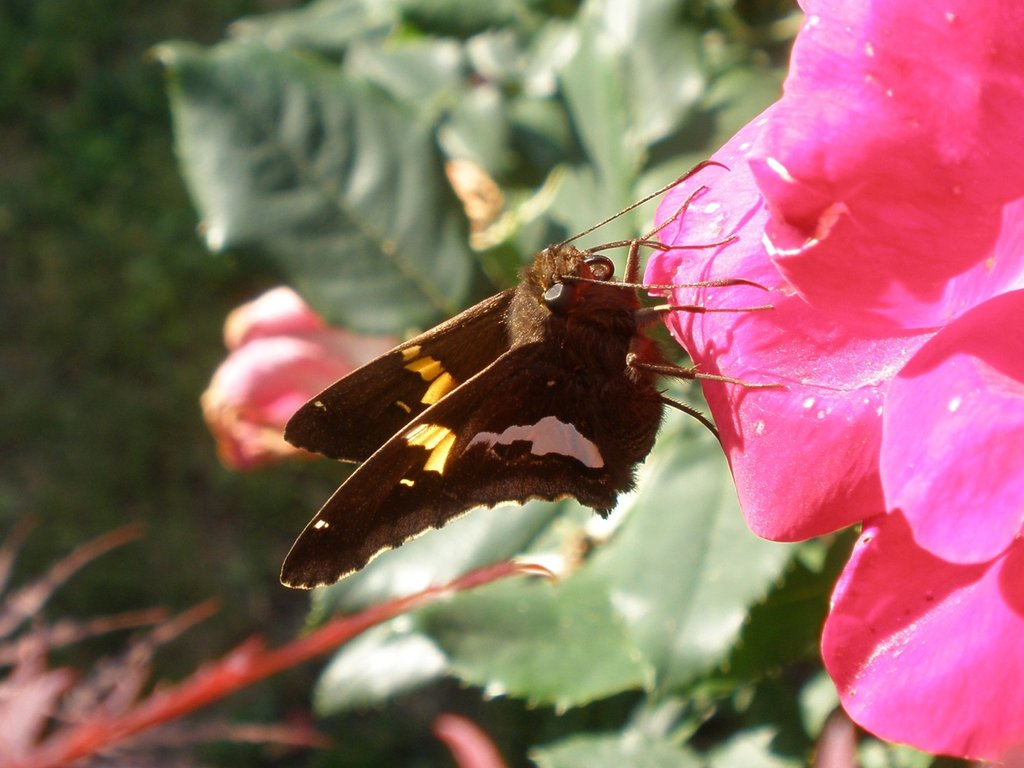Butterfly: (258, 213, 772, 604)
